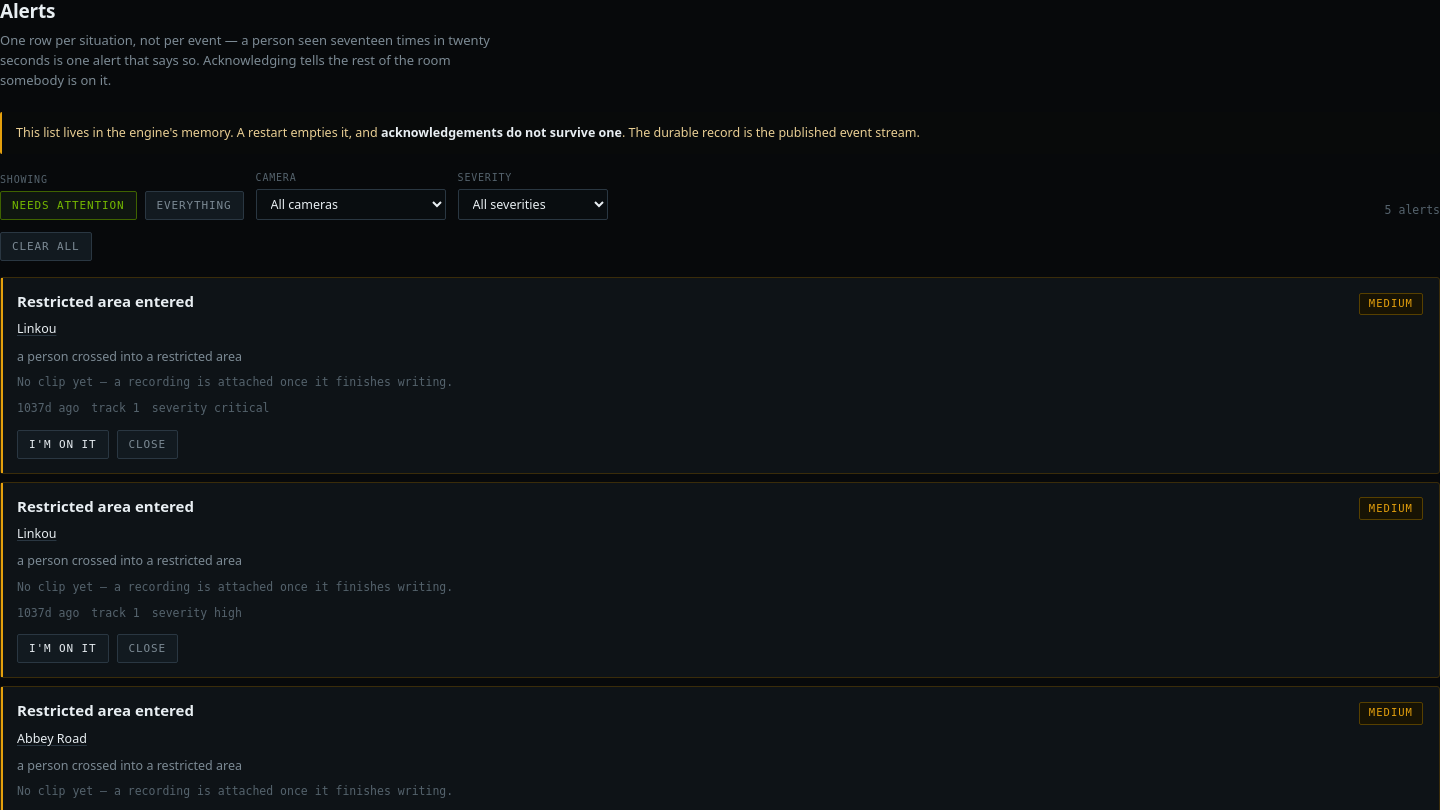
Test: AlertsPage filters, narrowing the list › restores the whole list from one control
Select "Linkou — 2" in the dropdown labelled "Camera": coordinates (351, 204) [256,189,446,220]
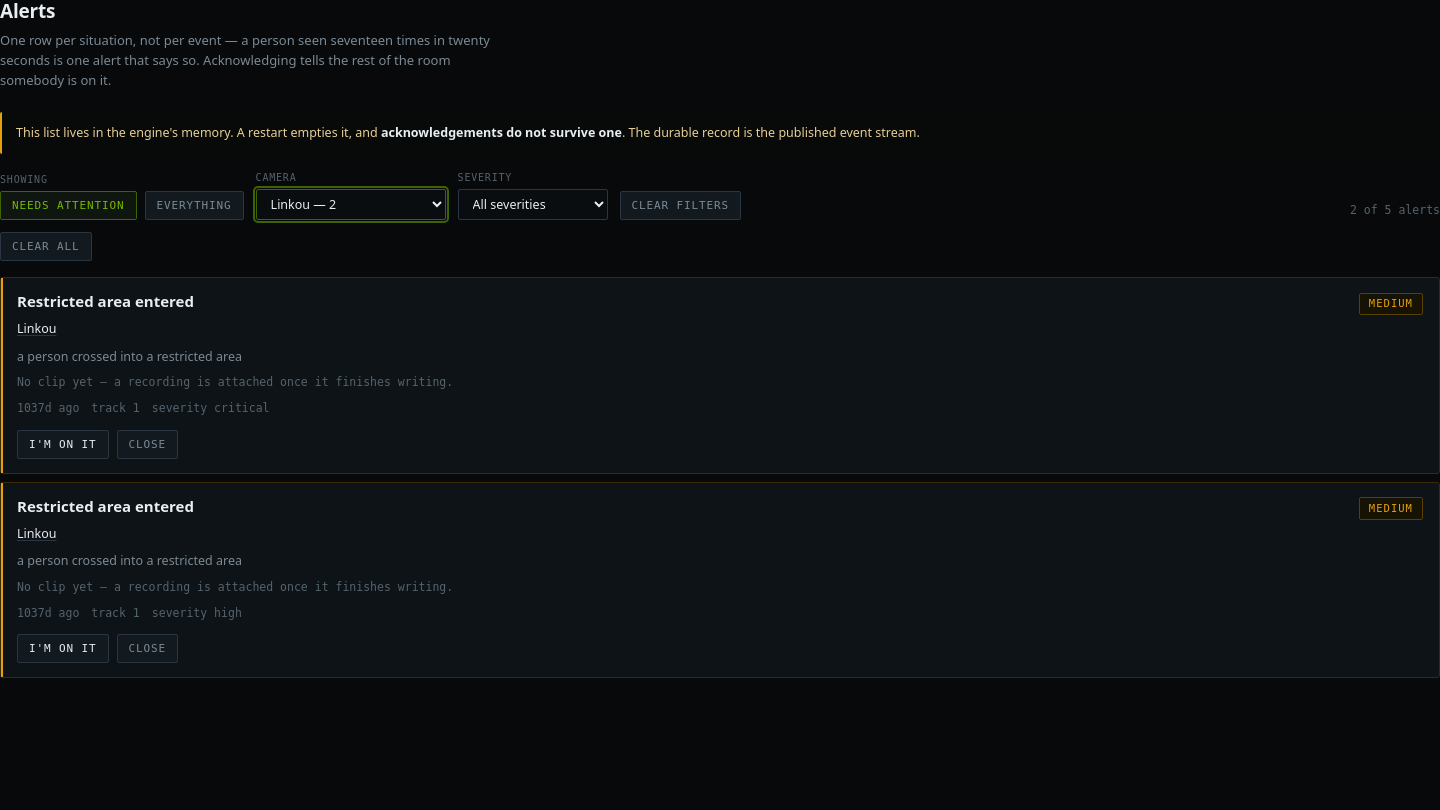
Select "High — 1" in the dropdown labelled "Severity": coordinates (533, 204) [458,189,608,220]
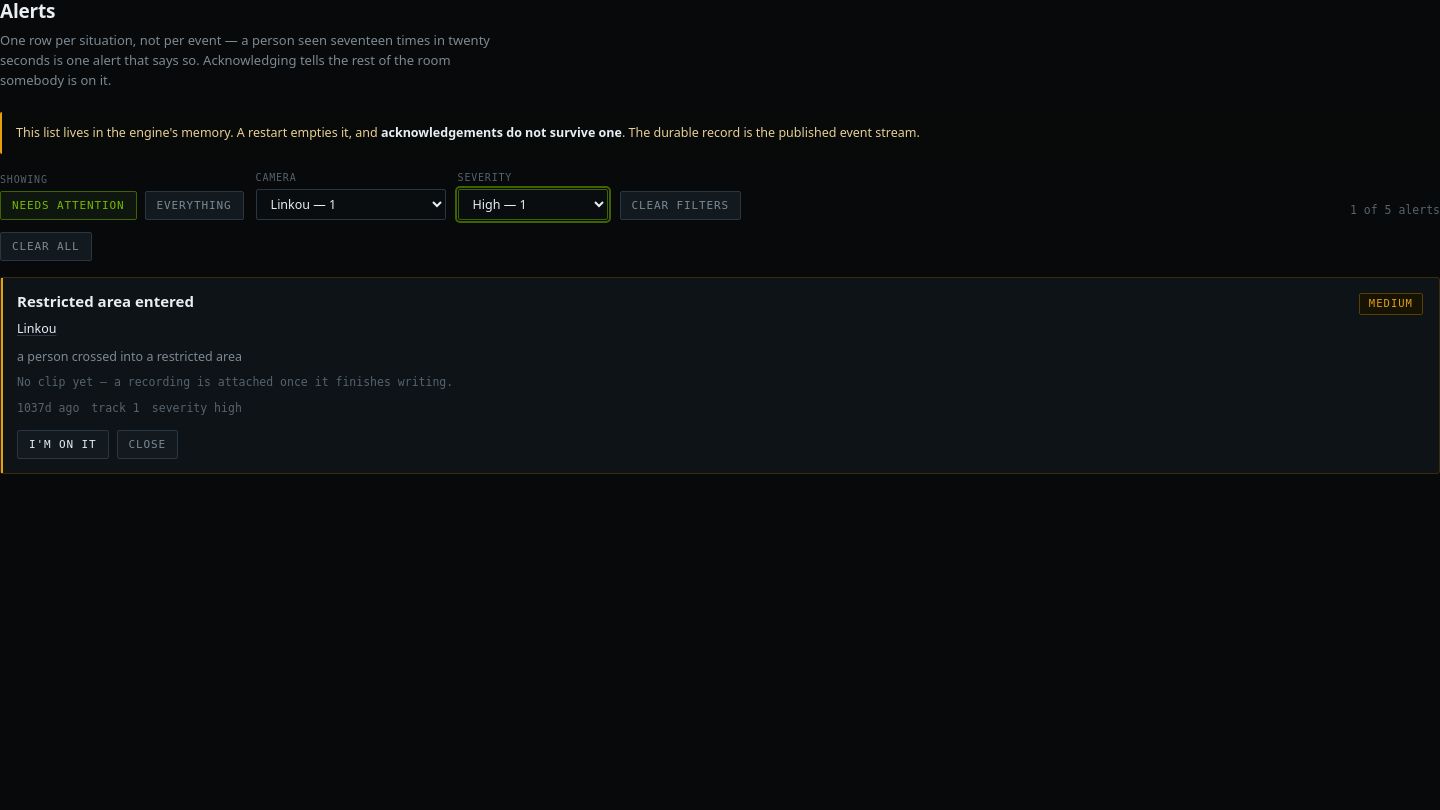
Click the button "Clear filters": coordinates (680, 206) [620,191,741,220]
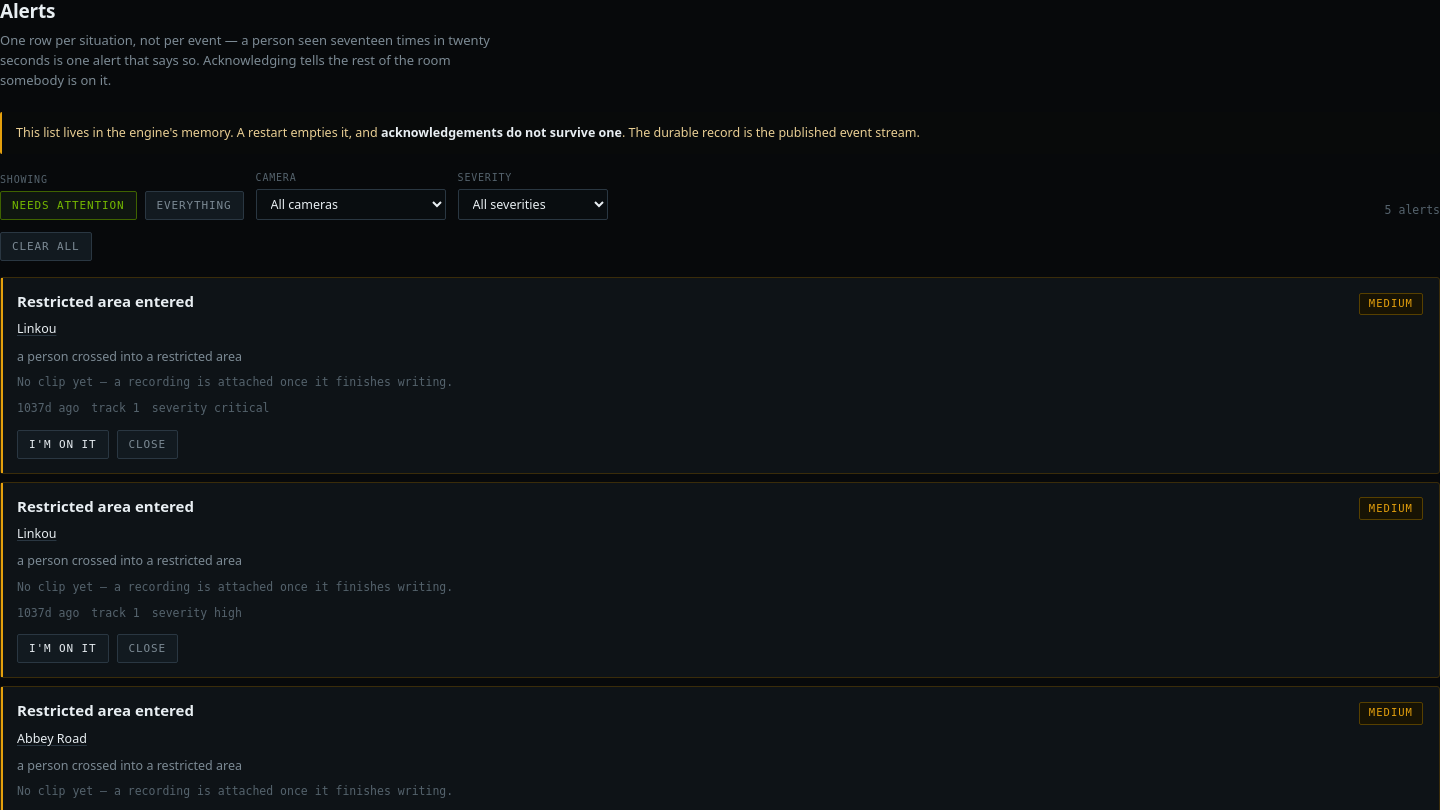
Expected: the button "Clear filters" is gone
